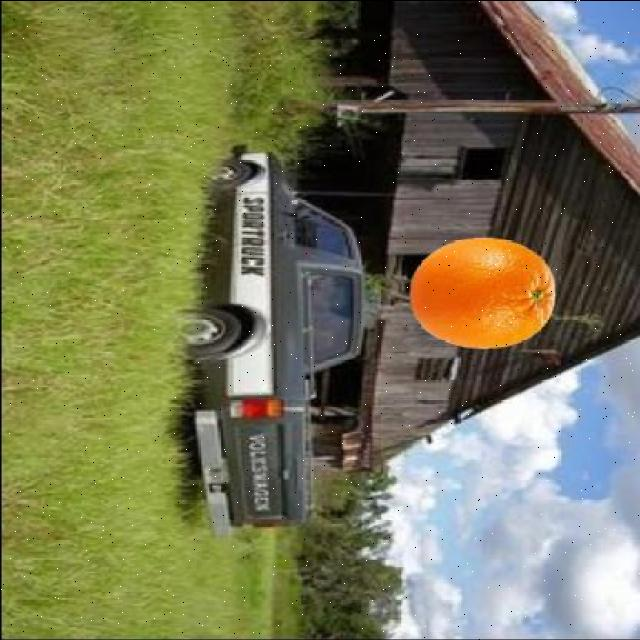Orange: (408, 235, 557, 351)
